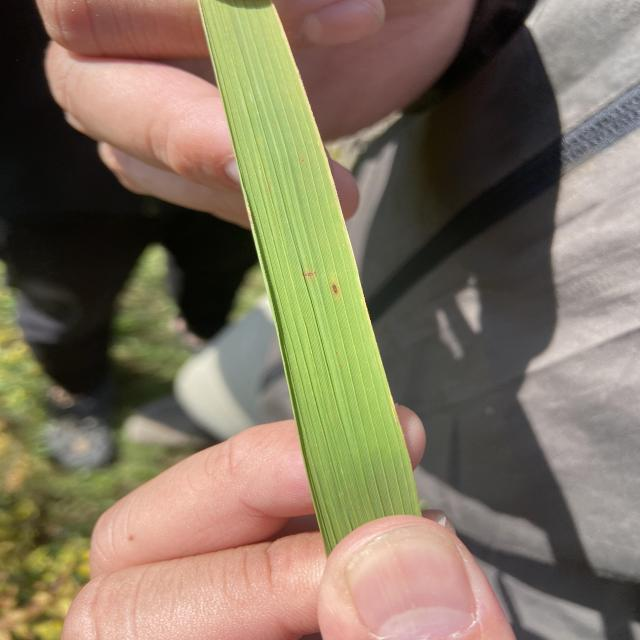Dom nau: (332, 285, 338, 294), (304, 273, 313, 276)
